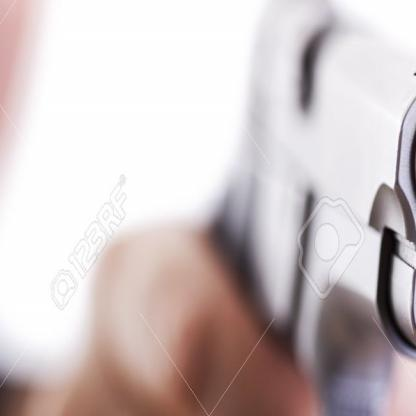gun: (205, 0, 415, 415)
